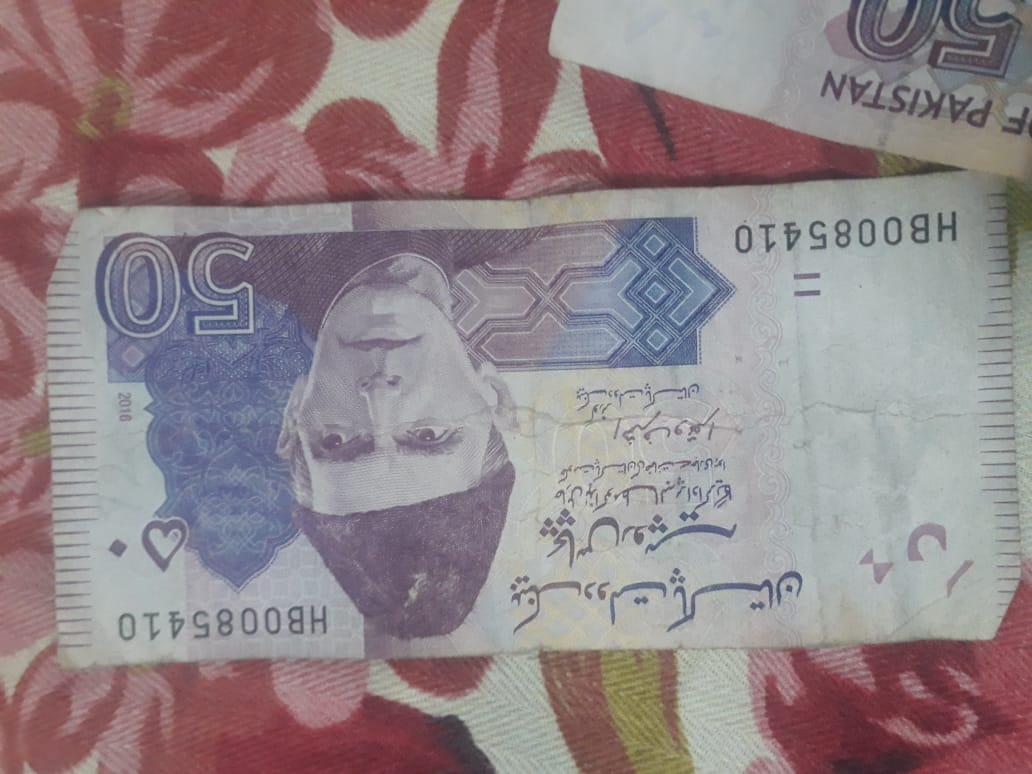50 rupee: (45, 176, 994, 688)
